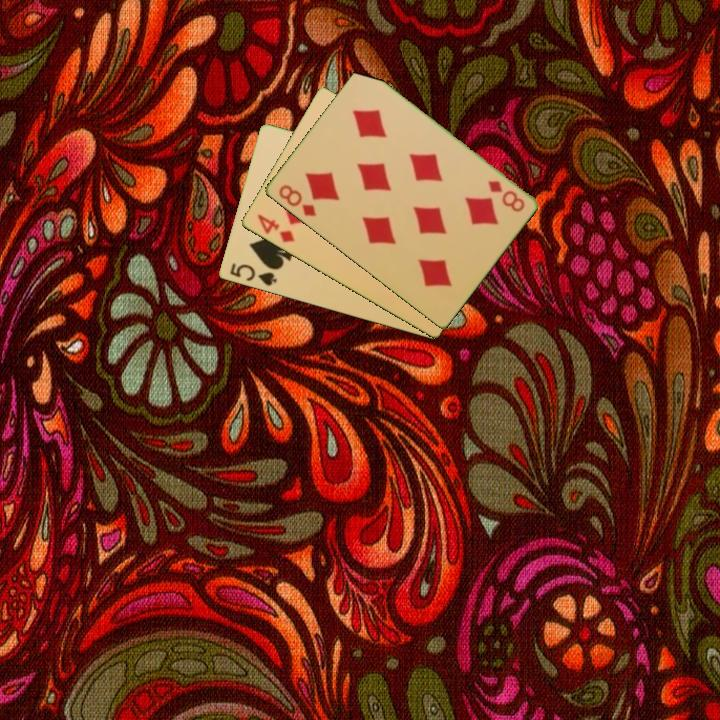4d: (253, 210, 297, 246)
5s: (226, 259, 280, 289)
8d: (275, 181, 319, 220), (484, 177, 528, 215)
